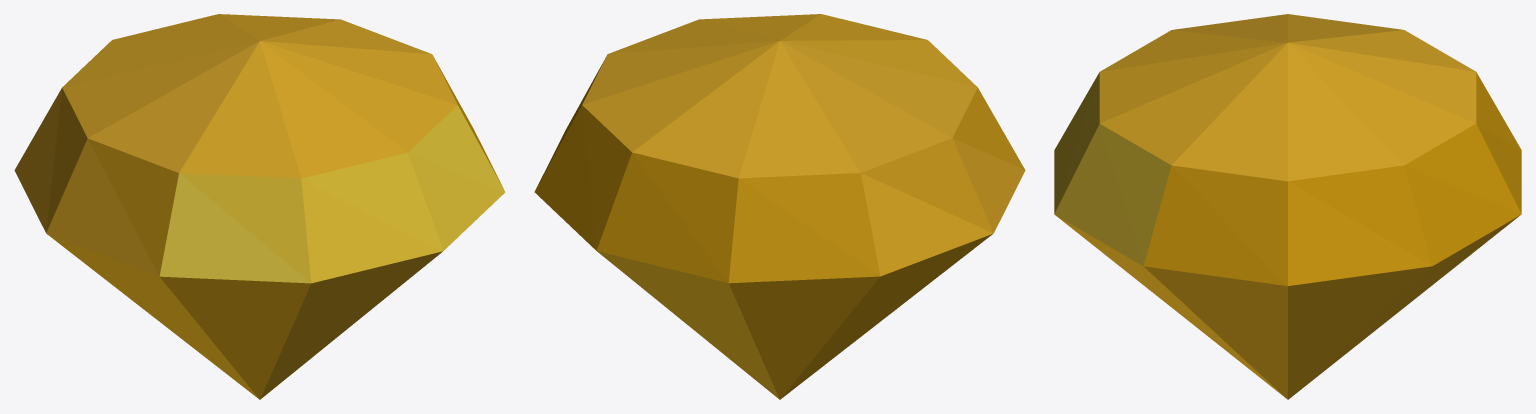
Rendered from prop_treasure_gem_topaz_2.fbx.
3 views of the same model, side by side, from view 1: azimuth 30°, elevation 25°; view 2: azimuth 150°, elevation 25°; view 3: azimuth 270°, elevation 25° (orthographic).
Parts seen in each view (by area): view 1: prop_treasure_gem_topaz_2; view 2: prop_treasure_gem_topaz_2; view 3: prop_treasure_gem_topaz_2.
Part boxes in pixels (x1,y1,x2,y2): prop_treasure_gem_topaz_2: (14,14,505,399); prop_treasure_gem_topaz_2: (534,14,1025,399); prop_treasure_gem_topaz_2: (1054,14,1521,399).
Bounding box in the file's own units: 0.5011 × 0.4021 × 0.4766.
